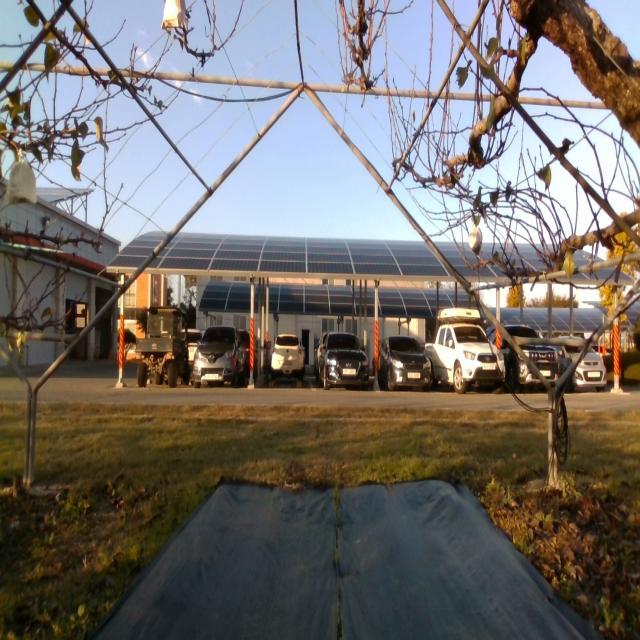pearbags: (4, 160, 37, 204), (161, 0, 185, 29), (468, 224, 482, 255)
